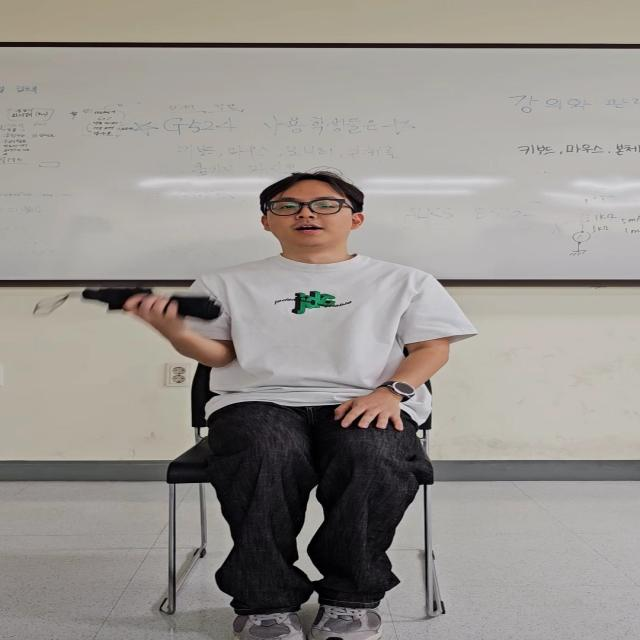curl: (105, 268, 252, 380)
